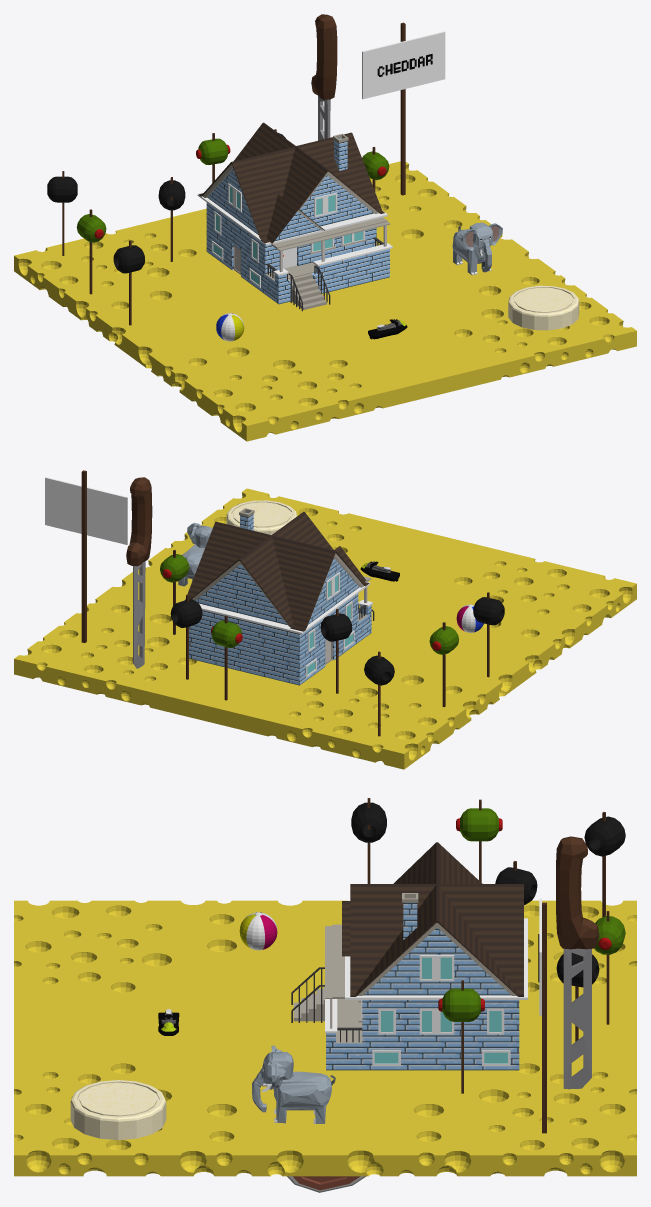
3 renders of one model, top to bottom at view 1: azimuth 30°, elevation 25°; view 2: azimuth 150°, elevation 25°; view 3: azimuth 270°, elevation 25°, orthographic. The views are drawn at different scales.
Parts seen in each view (by area): view 1: Cube.022, Cube.547, Cube.023, Cylinder.016, Cube.024, ANIMAL_ELEFANTE, Sphere.016, Sphere.017, Sphere.018, Sphere.020, Sphere.022, OBJRANDOM_BEACHBALL (+1 smaller); view 2: Cube.022, Cube.547, Cube.023, Cube.024, Cylinder.016, ANIMAL_ELEFANTE, Sphere.022, Sphere.017, Sphere.020, Sphere.021, Sphere.018, Sphere.016 (+3 smaller); view 3: Cube.022, Cube.547, Cube.024, Cylinder.016, ANIMAL_ELEFANTE, Cube.023, Sphere.019, Sphere.016, Sphere.018, Sphere.017, Sphere.022, OBJRANDOM_BEACHBALL (+3 smaller).
Part boxes in pixels (x1=…): Cube.022: x1=14, y1=161, x2=636, y2=441; Cube.547: x1=197, y1=122, x2=392, y2=311; Cube.023: x1=362, y1=22, x2=445, y2=195; Cylinder.016: x1=508, y1=285, x2=579, y2=330; Cube.024: x1=311, y1=14, x2=337, y2=140; ANIMAL_ELEFANTE: x1=452, y1=222, x2=502, y2=275; Sphere.016: x1=47, y1=171, x2=77, y2=255; Sphere.017: x1=113, y1=240, x2=144, y2=325; Sphere.018: x1=76, y1=209, x2=106, y2=294; Sphere.020: x1=158, y1=177, x2=185, y2=261; Sphere.022: x1=196, y1=133, x2=230, y2=182; OBJRANDOM_BEACHBALL: x1=216, y1=313, x2=244, y2=341; Cube.022: x1=14, y1=488, x2=636, y2=769; Cube.547: x1=183, y1=508, x2=374, y2=685; Cube.023: x1=45, y1=470, x2=127, y2=642; Cube.024: x1=126, y1=477, x2=152, y2=668; Cylinder.016: x1=226, y1=500, x2=296, y2=534; ANIMAL_ELEFANTE: x1=178, y1=522, x2=212, y2=586; Sphere.022: x1=211, y1=615, x2=242, y2=700; Sphere.017: x1=473, y1=592, x2=504, y2=677; Sphere.020: x1=320, y1=609, x2=352, y2=693; Sphere.021: x1=170, y1=594, x2=202, y2=679; Sphere.018: x1=429, y1=622, x2=458, y2=707; Sphere.016: x1=364, y1=651, x2=394, y2=736; Cube.022: x1=14, y1=900, x2=636, y2=1176; Cube.547: x1=291, y1=842, x2=527, y2=1070; Cube.024: x1=556, y1=836, x2=599, y2=1089; Cylinder.016: x1=70, y1=1080, x2=166, y2=1140; ANIMAL_ELEFANTE: x1=252, y1=1045, x2=335, y2=1123; Cube.023: x1=538, y1=898, x2=546, y2=1133; Sphere.019: x1=438, y1=980, x2=484, y2=1093; Sphere.016: x1=584, y1=812, x2=625, y2=917; Sphere.018: x1=456, y1=799, x2=502, y2=882; Sphere.017: x1=351, y1=798, x2=386, y2=883; Sphere.022: x1=594, y1=911, x2=625, y2=1024; OBJRANDOM_BEACHBALL: x1=239, y1=912, x2=277, y2=950.
Bounding box in the file's own units: 3917 × 2723 × 4000.
Materials: 36 (4 with a texture image).
